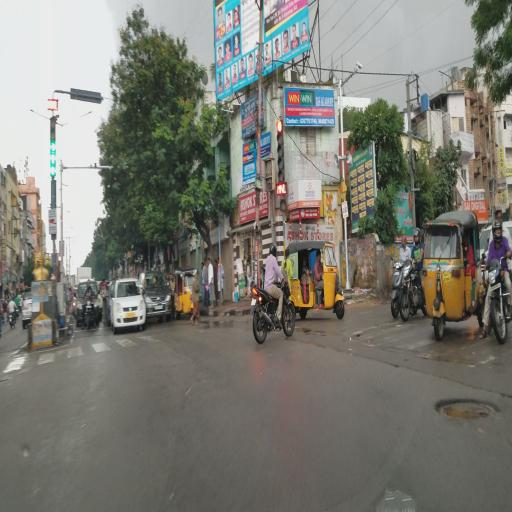street_light_0: (26, 99, 62, 133), (61, 103, 97, 137)
